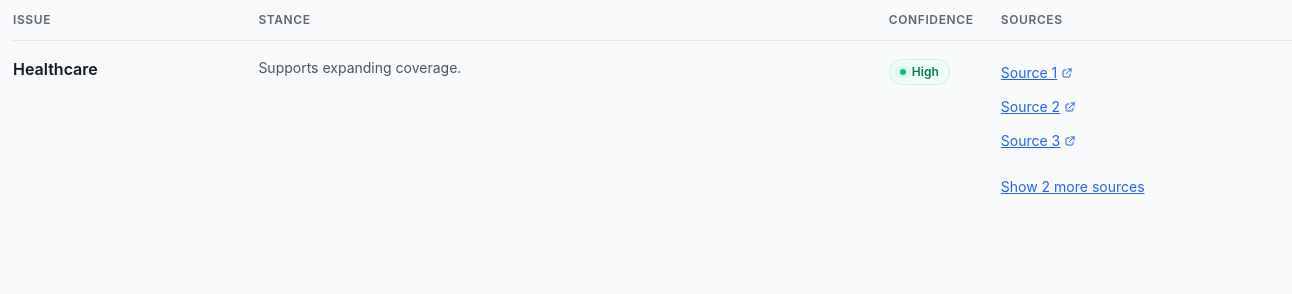
Test case: IssueTable source expansion › expands to every source and offers to collapse again
Click the button "Show 2 more sources": (1073, 187) [1001,165,1144,209]
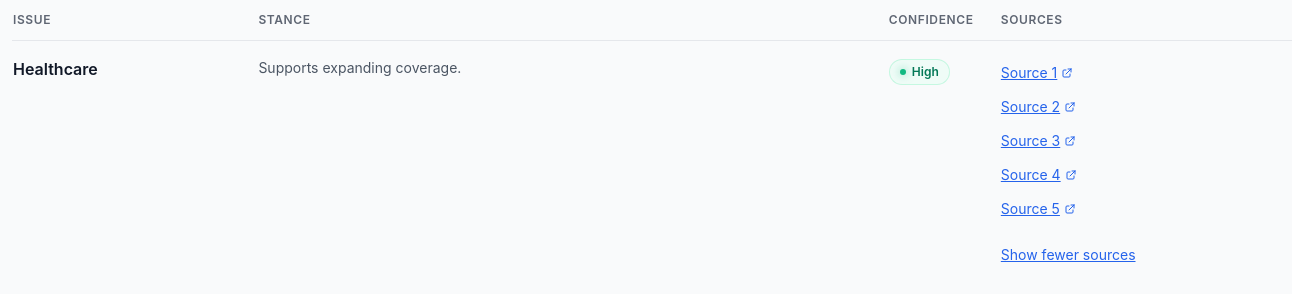
Check: the number of links is 5, box [1001,64,1073,81]; [1001,98,1076,115]; [1001,132,1076,149]; [1001,166,1077,183]; [1001,200,1076,217]
Check: the button "Show fewer sources" is shown
Click the button "Show fewer sources": (1068, 255) [1001,233,1136,277]
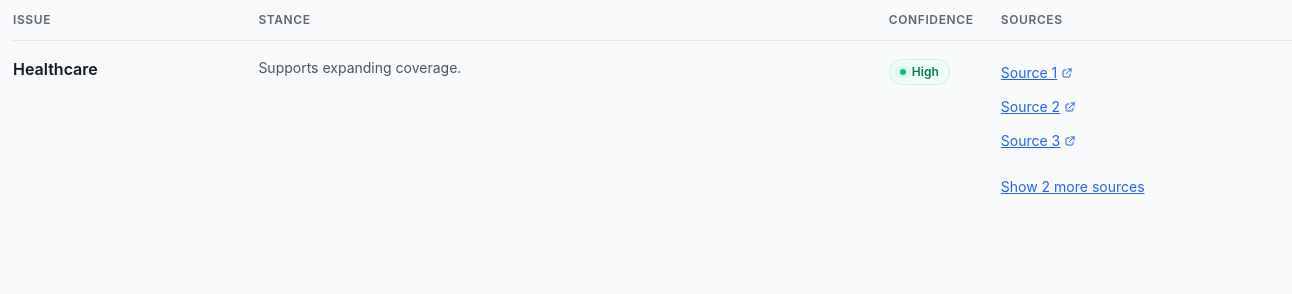
Check: the number of links is 3, box [1001,64,1073,81]; [1001,98,1076,115]; [1001,132,1076,149]
